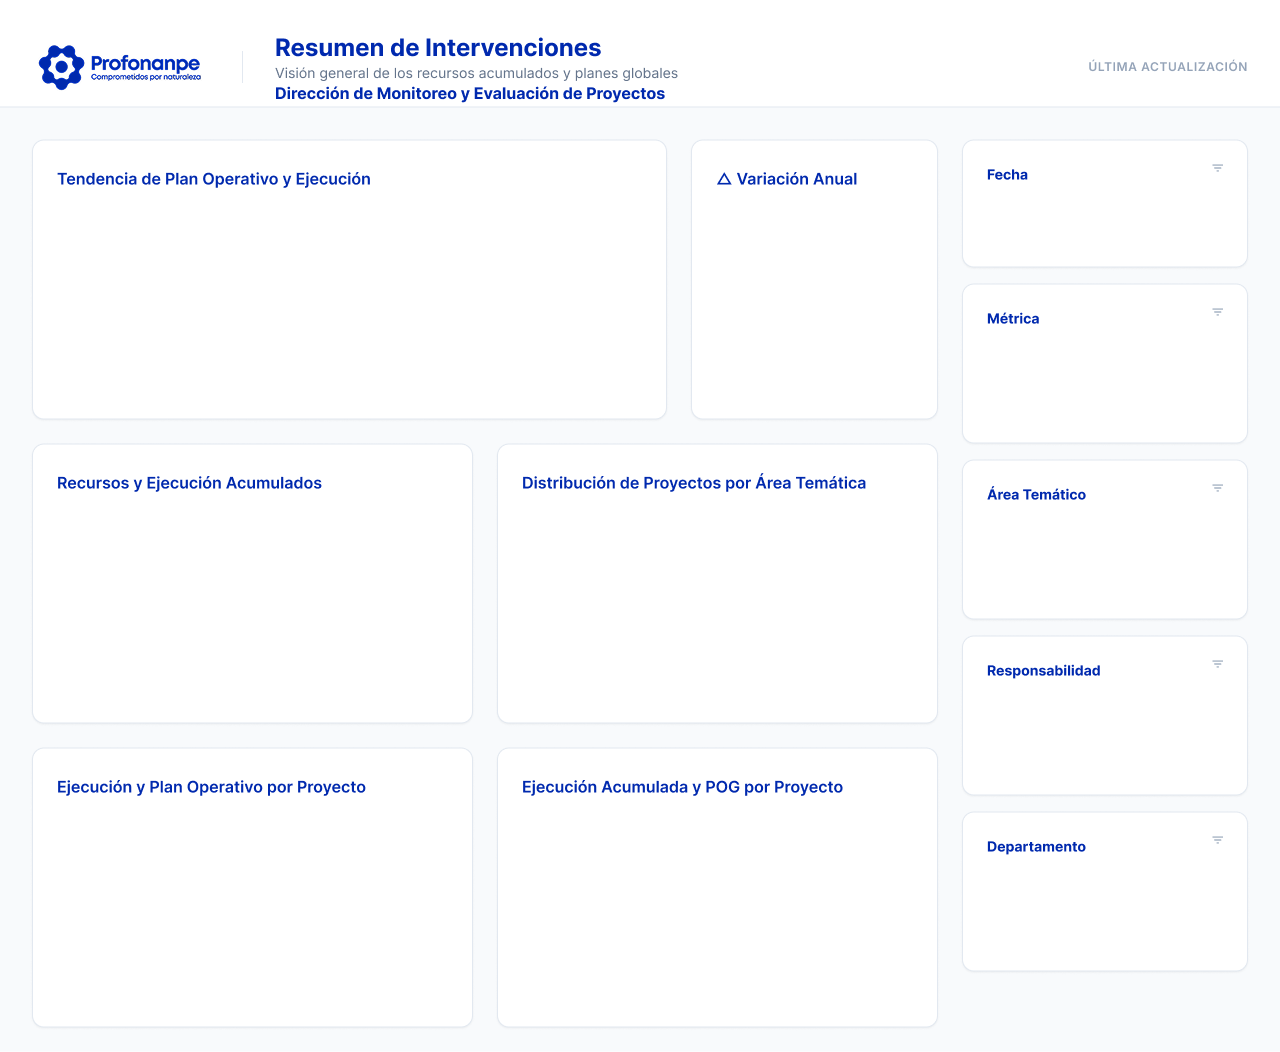

Layout of this report page (visuals, bound fields, positions):
{"tool":"powerbi","page":{"name":"Gestión Financiera","canvas":[1280,1024],"ordinal":0},"visuals":[{"type":"lineChart","fields":{"Category":["Filtro Año.Anio"],"Y":["Measure.Ejecucion Filtro Año"]},"box":[37.7,478.7,430.7,231.6],"z":0},{"type":"TornadoChart1452517688218","fields":{"Values":["Measure.Ejecucion Historico Visible","Measure.POG Base"],"Category":["DimProyecto.NombreProyecto"]},"box":[504.5,796.1,429,223.1],"z":1000},{"type":"lineChart","fields":{"Category":["DimFecha.Fecha.Variación.Jerarquía de fechas.Año"],"Y":["Measure.POA Base","Measure.Ejecucion Base"]},"box":[53.2,178.4,592,219.6],"z":2000},{"type":"TornadoChart1452517688218","fields":{"Values":["Measure.Ejecucion YTD","Measure.POA YTD"],"Category":["DimProyecto.NombreProyecto"]},"box":[37.7,796.1,430.7,223.1],"z":3000},{"type":"advancedSlicerVisual","title":"Fecha","fields":{"Values":["DimFecha.Fecha.Variación.Jerarquía de fechas.Año"]},"box":[967.7,181.9,278,63.5],"z":4000},{"type":"advancedSlicerVisual","title":"Área Temática","fields":{"Values":["DimProyecto.AreaTematica"]},"box":[967.7,499.3,278,90.9],"z":5000},{"type":"donutChart","fields":{"Category":["DimProyecto.AreaTematica"],"Y":["Measure.POG Base"]},"box":[492.4,499.3,441,211],"z":6000},{"type":"textbox","box":[548.3,10,188.3,45],"z":7000},{"type":"advancedSlicerVisual","title":"Fecha","fields":{"Values":["SLC_Values.Metric"]},"box":[967.7,319.1,278,99.5],"z":8000},{"type":"advancedSlicerVisual","title":"Área Temática","fields":{"Values":["DimProyecto.TipoResponsabilidad"]},"box":[967.7,674.3,278,90.9],"z":9000},{"type":"advancedSlicerVisual","title":"Área Temática","fields":{"Values":["DimUbicacion.Departamento"]},"box":[967.7,845.9,278,90.9],"z":10000},{"type":"cardVisual","fields":{"Data":["Measure.POG Base"]},"box":[504.5,461.6,245.4,78.9],"z":11000},{"type":"cardVisual","fields":{"Data":["Measure.FechaActualizacion"]},"box":[1050.1,42.9,228.2,53.2],"z":12000},{"type":"cardVisual","fields":{"Data":["Measure.S_YTD","Measure.S_PYTD","Measure.YTD vs PYTD"]},"box":[694.9,181.9,238.5,216.2],"z":13000}]}

Visuals, with their boxes in screenshot pixels (x1, y1, x2, y2), scaled from the page's 1280x1024 canvas onto the 1280x1052 screenshot:
lineChart - Filtro Año.Anio x Measure.Ejecucion Filtro Año: 38:492:468:730
TornadoChart1452517688218 - Measure.Ejecucion Historico Visible x Measure.POG Base: 504:818:934:1047
lineChart - DimFecha.Fecha.Variación.Jerarquía de fechas.Año x Measure.POA Base: 53:183:645:409
TornadoChart1452517688218 - Measure.Ejecucion YTD x Measure.POA YTD: 38:818:468:1047
"Fecha" advancedSlicerVisual: 968:187:1246:252
"Área Temática" advancedSlicerVisual: 968:513:1246:606
donutChart - DimProyecto.AreaTematica x Measure.POG Base: 492:513:933:730
textbox: 548:10:737:57
"Fecha" advancedSlicerVisual: 968:328:1246:430
"Área Temática" advancedSlicerVisual: 968:693:1246:786
"Área Temática" advancedSlicerVisual: 968:869:1246:962
cardVisual - Measure.POG Base: 504:474:750:555
cardVisual - Measure.FechaActualizacion: 1050:44:1278:99
cardVisual - Measure.S_YTD x Measure.S_PYTD: 695:187:933:409
